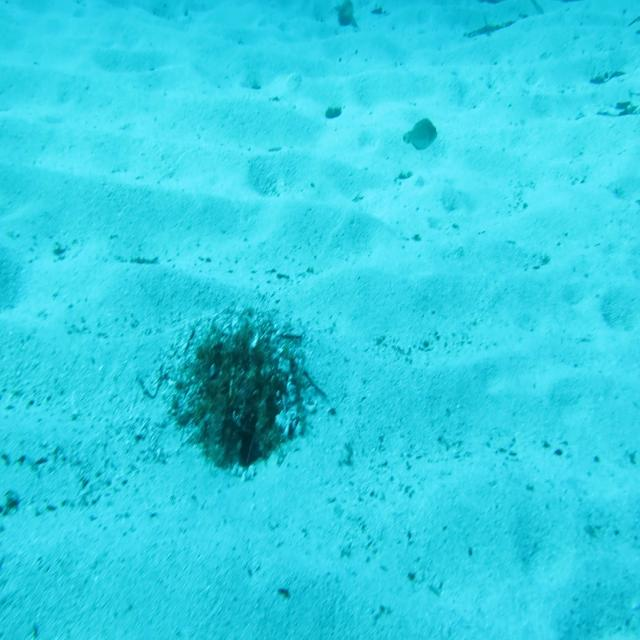SA: (396, 114, 442, 156)
core_nest: (225, 340, 268, 372)
nest: (173, 310, 311, 470)
